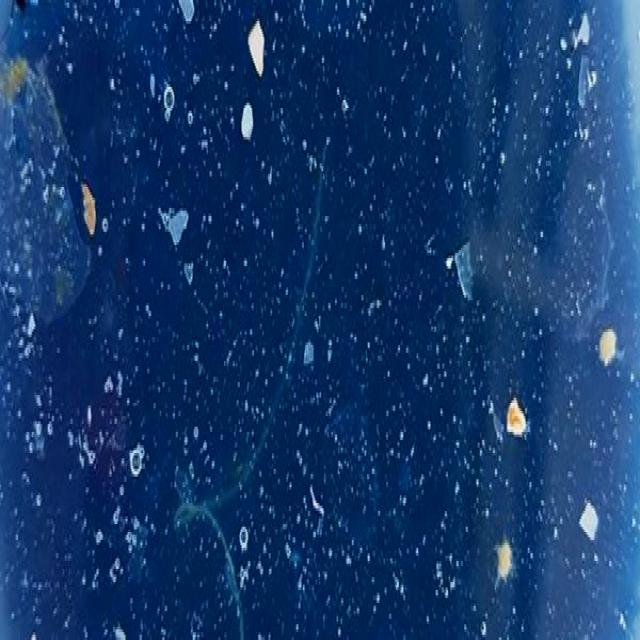plastic watse: (175, 147, 327, 537), (0, 58, 89, 318), (249, 18, 263, 76), (82, 182, 94, 232)
